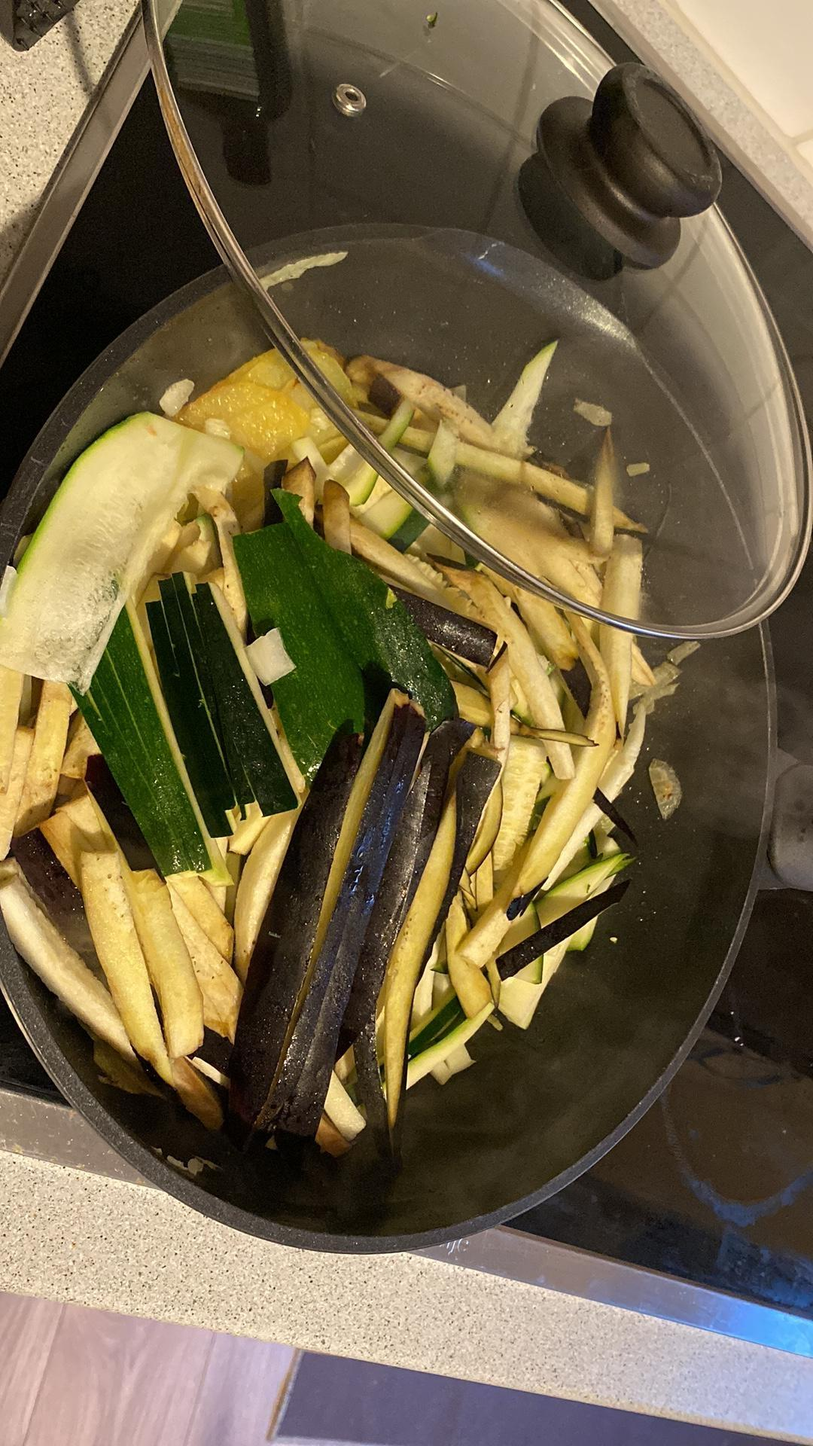eggplant: (230, 686, 406, 1159), (286, 715, 468, 1167), (280, 728, 423, 1142), (363, 704, 494, 1153), (223, 724, 355, 1150), (15, 817, 207, 1074), (503, 600, 621, 926), (350, 352, 509, 435), (530, 458, 658, 540), (505, 897, 635, 973), (395, 589, 518, 666), (74, 757, 145, 873)
vegetable marrow: (0, 406, 251, 692), (265, 474, 474, 742), (228, 517, 390, 770), (100, 599, 230, 896), (61, 653, 204, 888), (158, 567, 257, 826), (198, 581, 298, 807), (532, 854, 641, 918)
